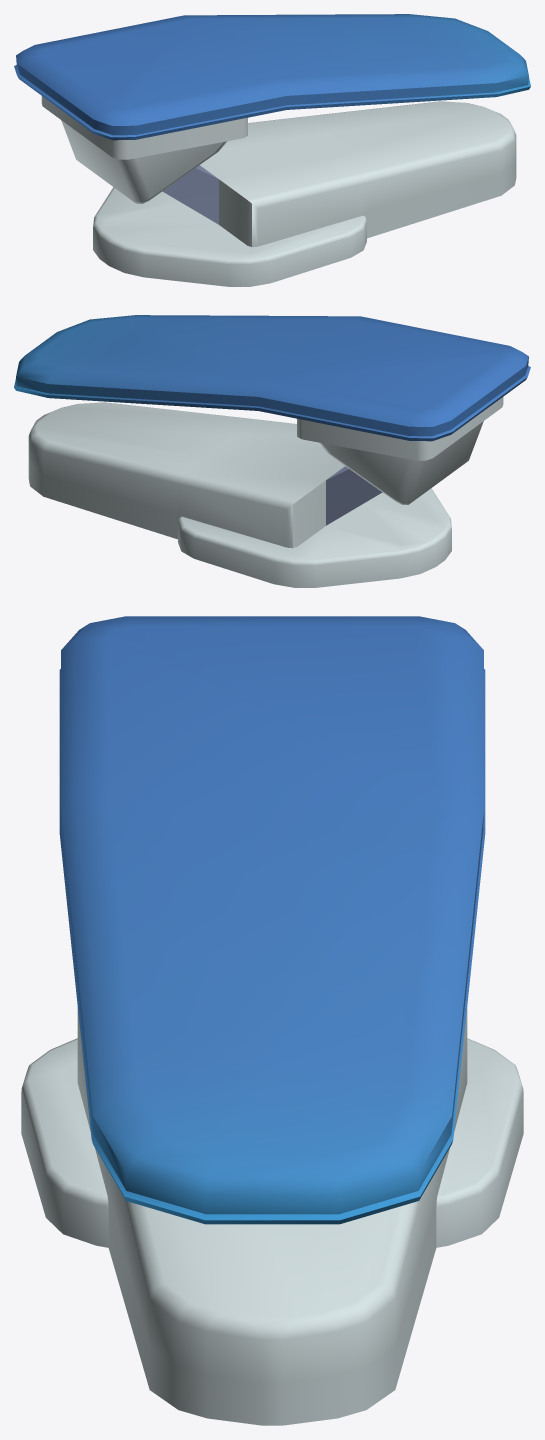
File: sur_chair.1.fbx
The picture shows the model from 3 angles, top to bottom: view 1: azimuth 30°, elevation 25°; view 2: azimuth 150°, elevation 25°; view 3: azimuth 270°, elevation 25°; orthographic projection. The views are drawn at different scales.
Visible parts, largest first — view 1: sur_chair.1; view 2: sur_chair.1; view 3: sur_chair.1.
Part boxes in pixels (x1=…): sur_chair.1: x1=14, y1=14, x2=530, y2=286; sur_chair.1: x1=14, y1=315, x2=530, y2=587; sur_chair.1: x1=21, y1=616, x2=523, y2=1425.
Size of the model in its own units: 71.34 by 28.28 by 34.02.
